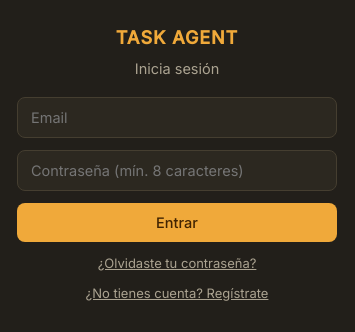
Test: LoginForm - modo login (por defecto) › muestra el error del servidor si el login falla
Type "a@b.com" into the field with placeholder "Email" at (177, 117), box [17,96,337,138]
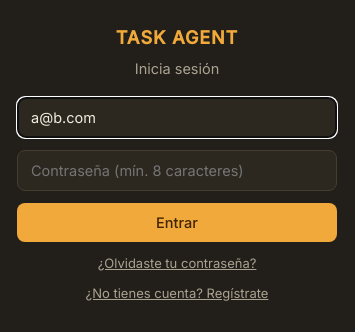
Type "malapassword" into the password field with placeholder "Contraseña (mín. 8 caracteres)" at (177, 170), box [17,150,337,190]
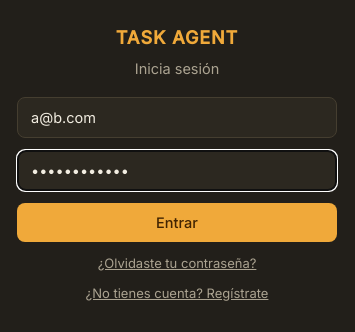
Click the button "Entrar" at (177, 222), box [17,202,337,242]
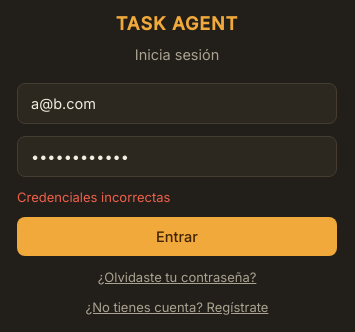
Expected: the text "Credenciales incorrectas" is shown, [17,188,170,204]
